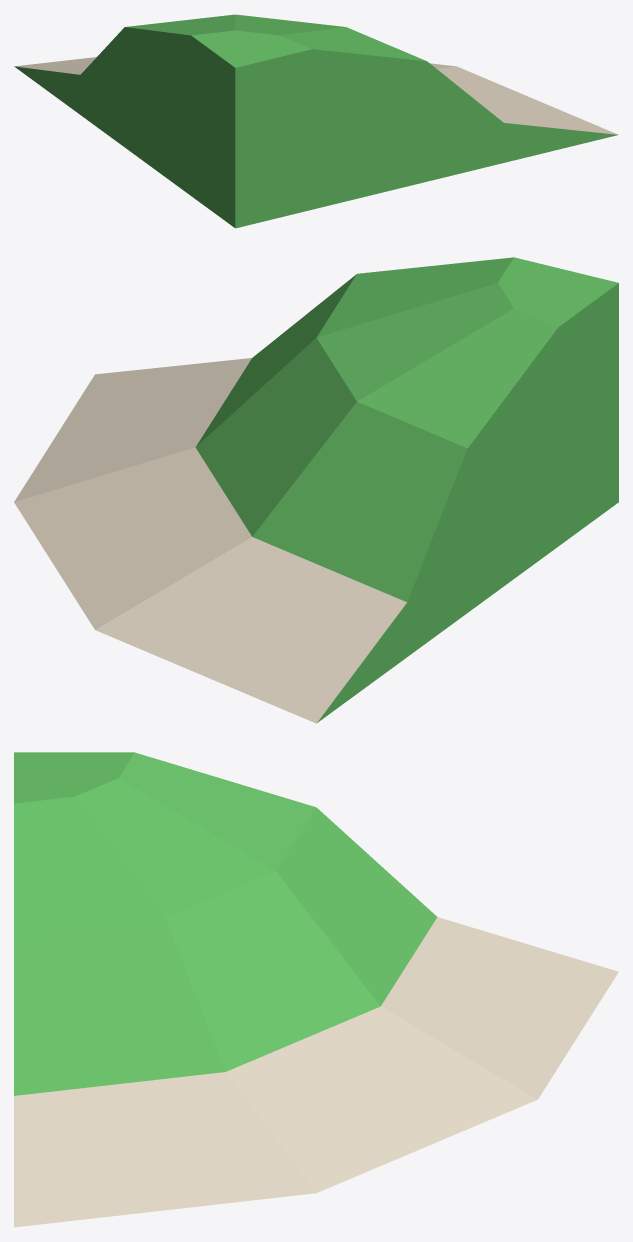
File: Path_Corner_Inner_1x1.glb
The picture shows the model from 3 angles, top to bottom: view 1: azimuth 30°, elevation 25°; view 2: azimuth 150°, elevation 25°; view 3: azimuth 270°, elevation 25°; orthographic projection. The views are drawn at different scales.
Visible parts, largest first — view 1: object1; view 2: object1; view 3: object1.
Boxes of the visible parts, box(x1,y1,x2,y2) form: object1: box(14, 14, 618, 228); object1: box(14, 257, 618, 723); object1: box(14, 752, 618, 1227).
Size of the model in its own units: 0.5 by 0.2 by 0.5.
